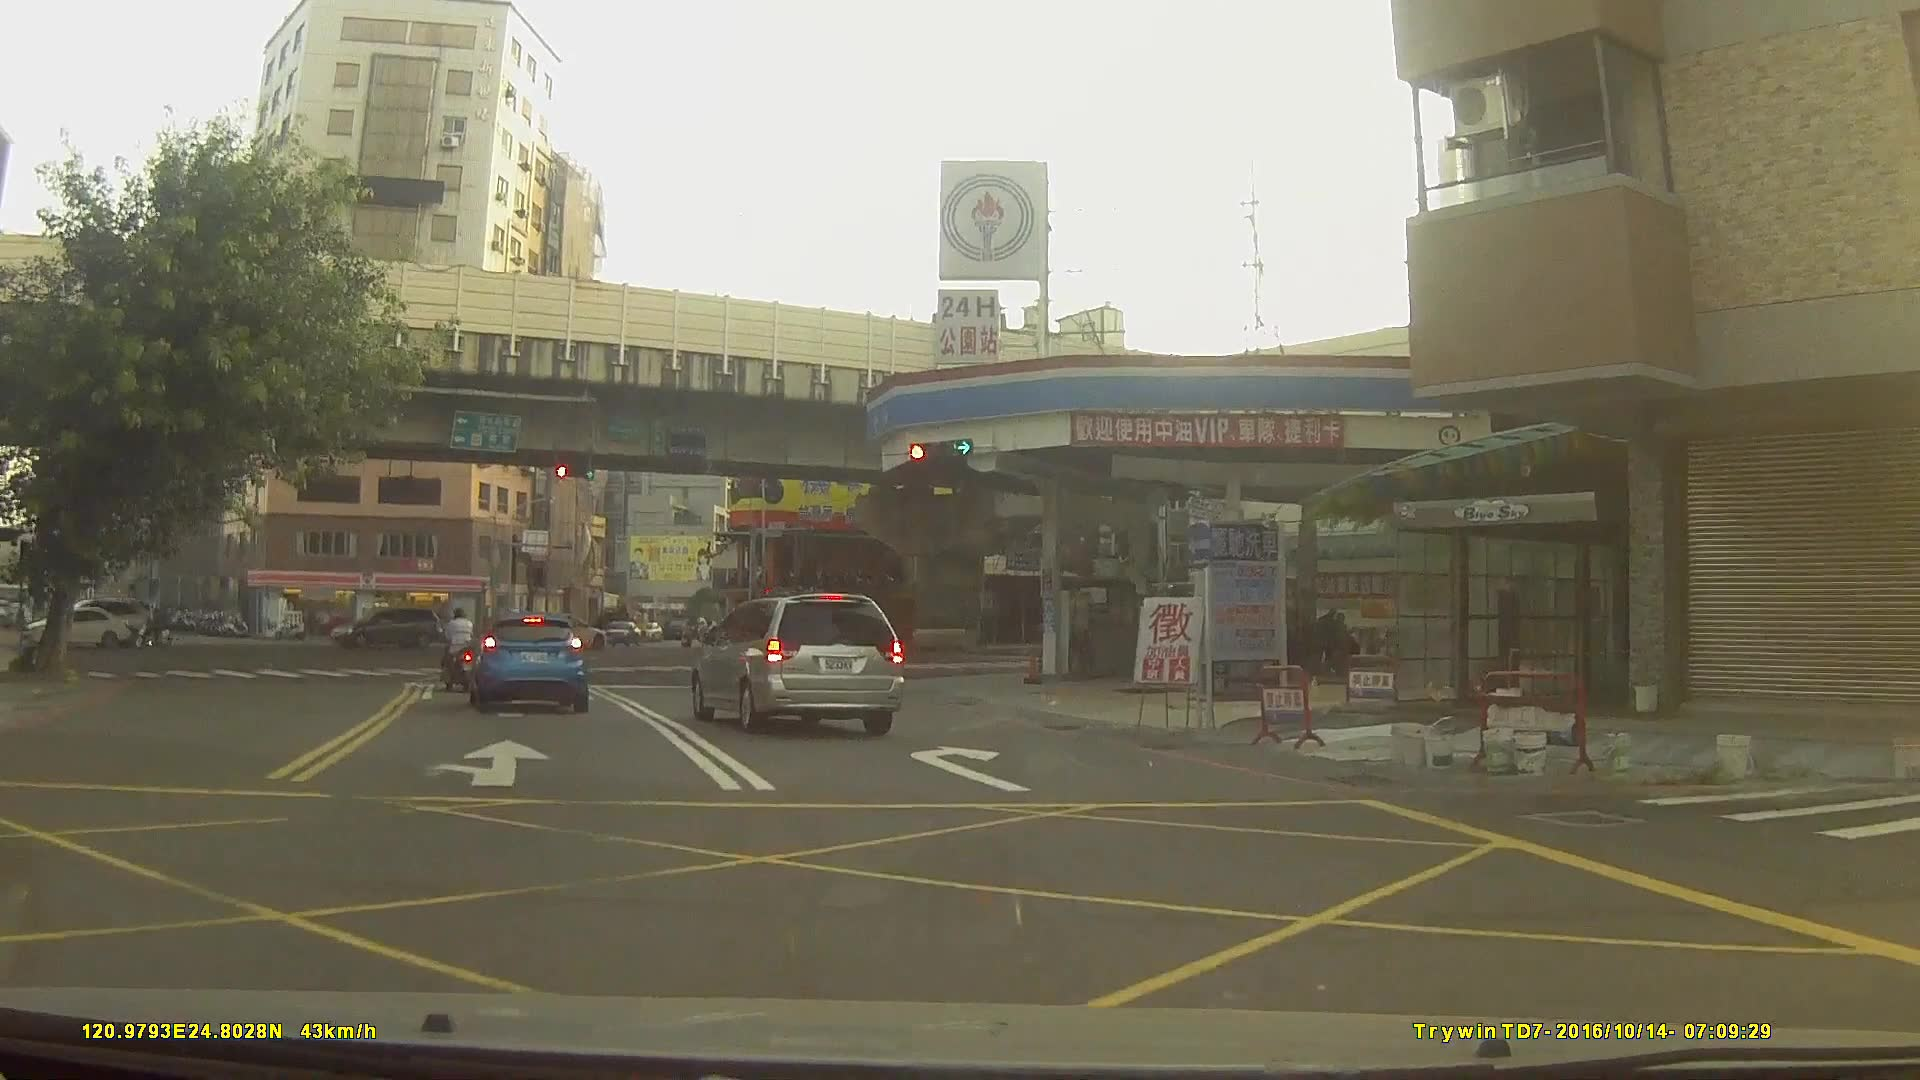rider: (442, 609, 483, 691), (133, 614, 163, 648)
vehicle: (692, 588, 905, 736), (467, 609, 589, 713), (330, 607, 441, 654), (24, 605, 130, 652), (526, 604, 606, 645)
